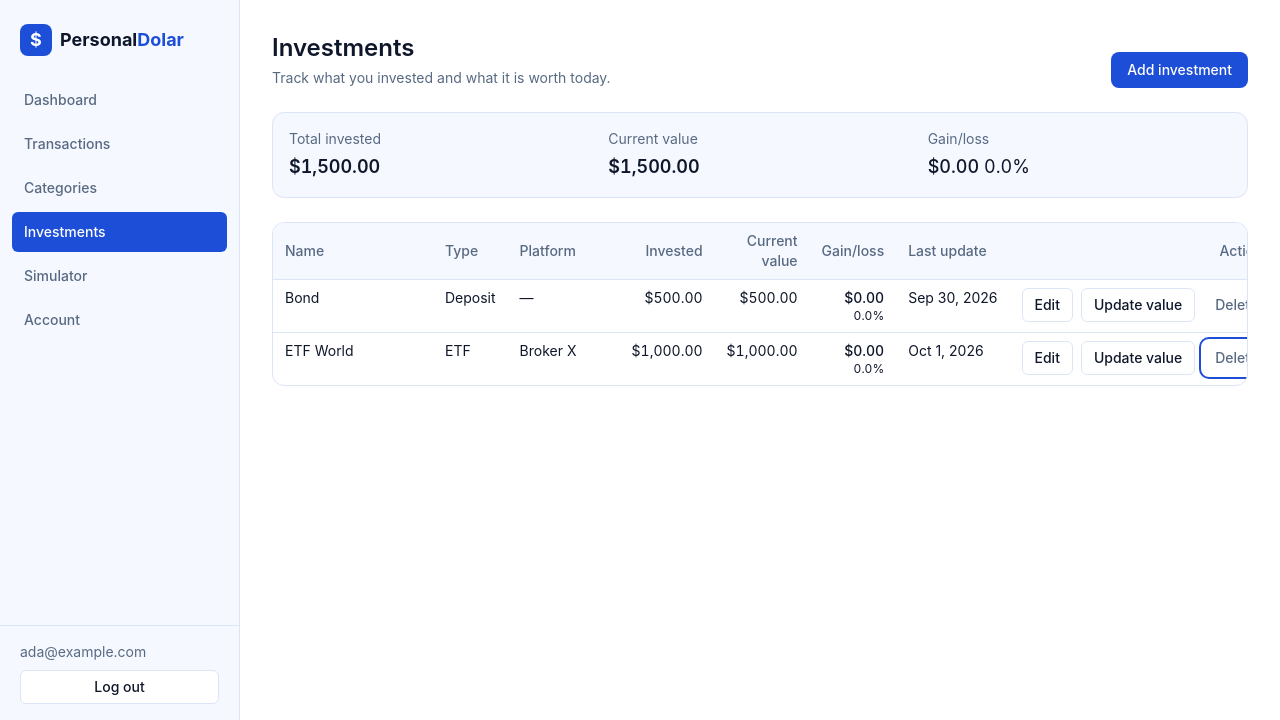
Delete button and dialog › opens a labelled confirmation with the summary and Cancel focused
Check: the table named "Investments" is shown, box [273,223,1248,385]
Click the button with aria-label "Delete ETF World" at (1237, 358), box [1203,341,1270,375]
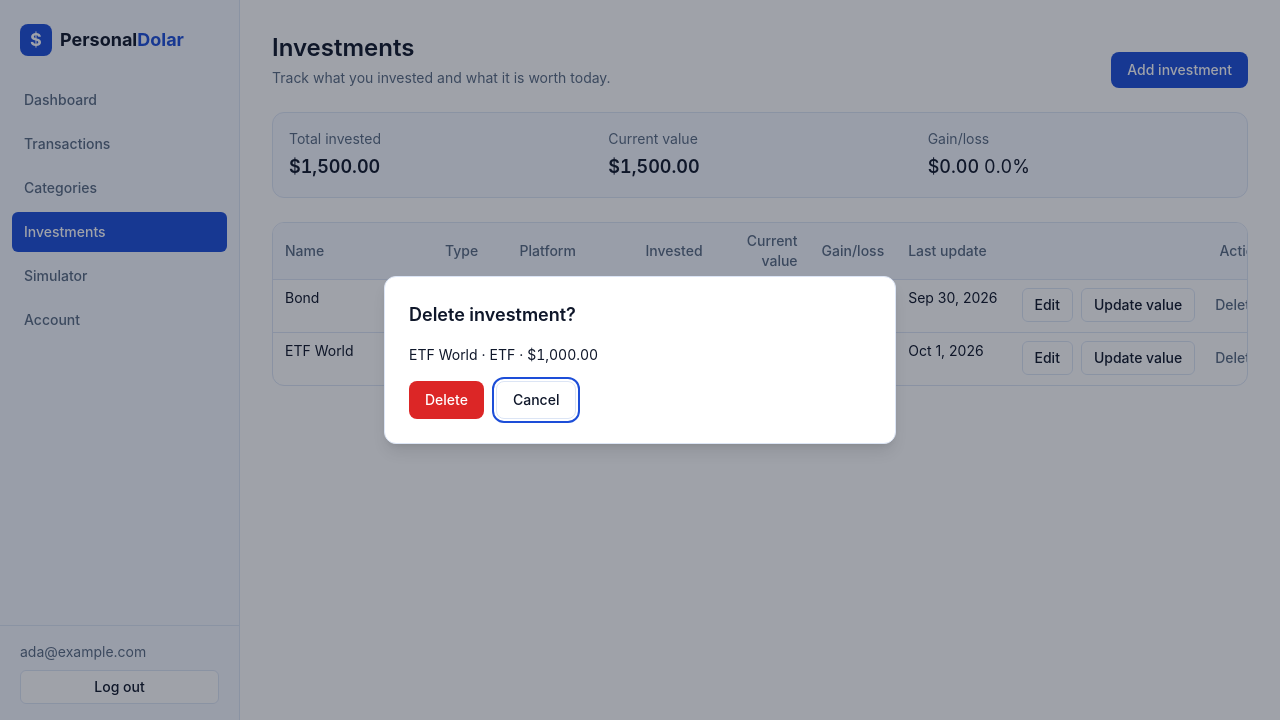
Check: the dialog "Delete investment?" shows "ETF World · ETF · $1,000.00", box [384,276,896,444]
Check: the button "Delete" is enabled, box [409,381,484,419]
